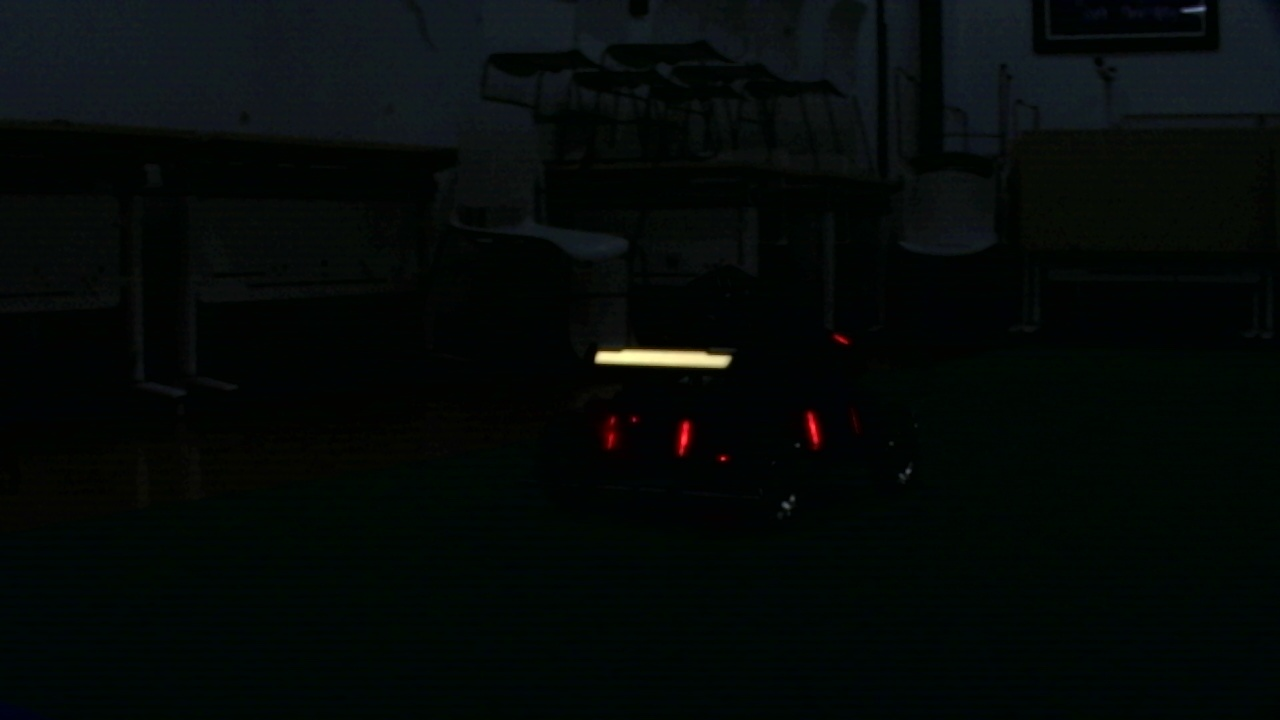lamp: (677, 413, 699, 460), (806, 411, 823, 447)
